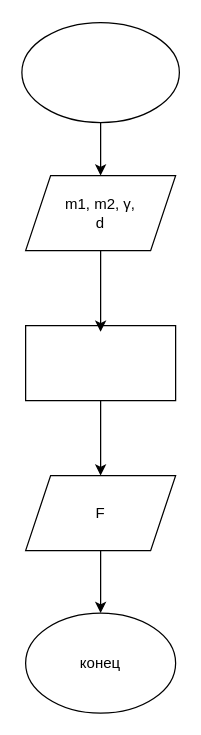
This 201x735 diagram has some shape labels left out. Here are the shapes that lost their labels. From the top down, the box of each, then its label:
(21, 21, 179, 122): начало
(24, 324, 176, 401): F = y*((m1*m2)/((2/d)^2))
